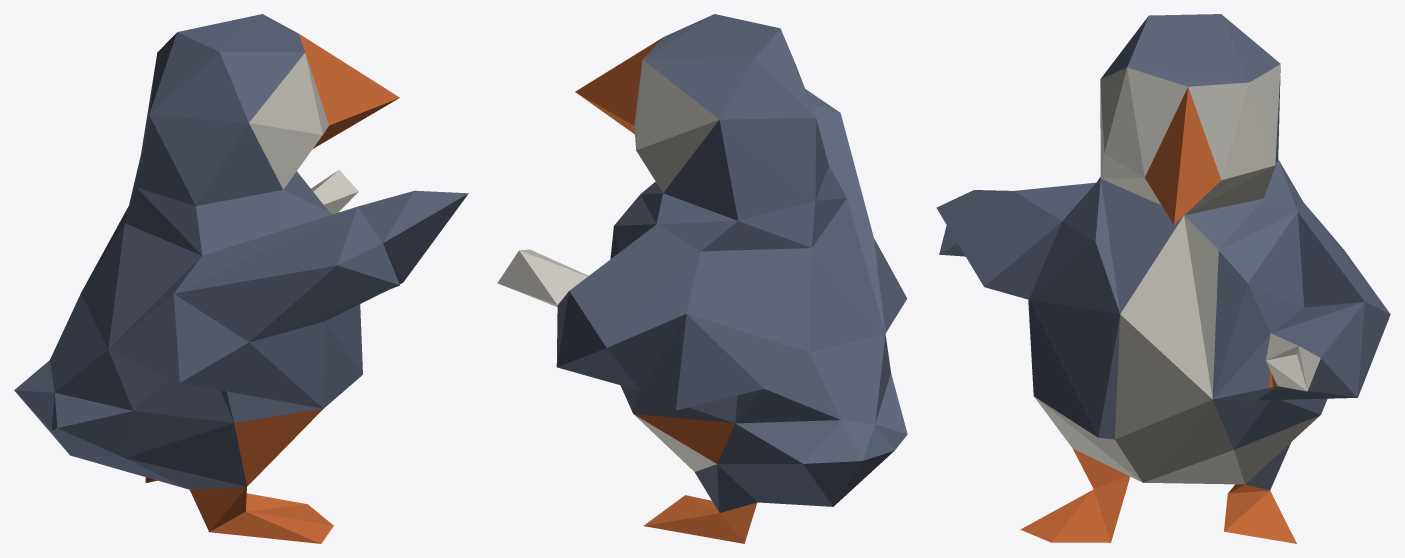
The picture shows the model from 3 angles, left to right: view 1: azimuth 30°, elevation 25°; view 2: azimuth 150°, elevation 25°; view 3: azimuth 270°, elevation 25°; orthographic projection. The views are drawn at different scales.
Parts seen in each view (by area): view 1: lion-200.001; view 2: lion-200.001; view 3: lion-200.001.
Boxes of the visible parts, <box> form: lion-200.001: <box>14,14,468,543</box>; lion-200.001: <box>497,14,907,543</box>; lion-200.001: <box>936,14,1390,543</box>.
Bounding box in the file's own units: 0.8015 × 1.02 × 0.8365.
